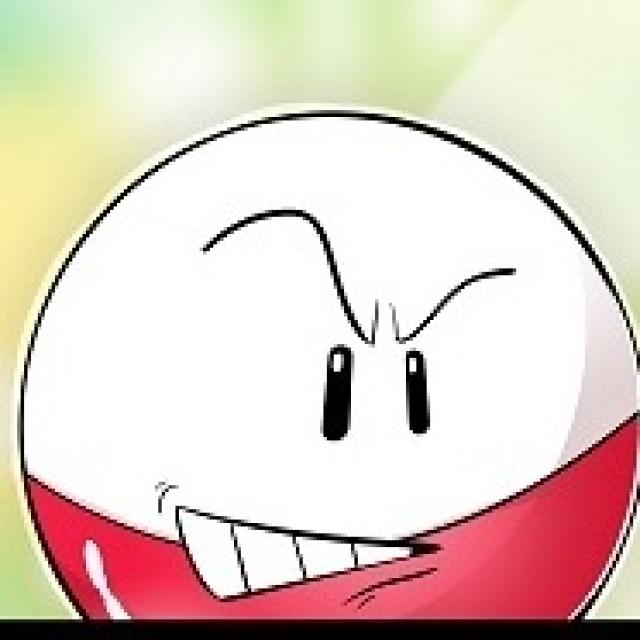Electrode: (20, 106, 640, 624)
